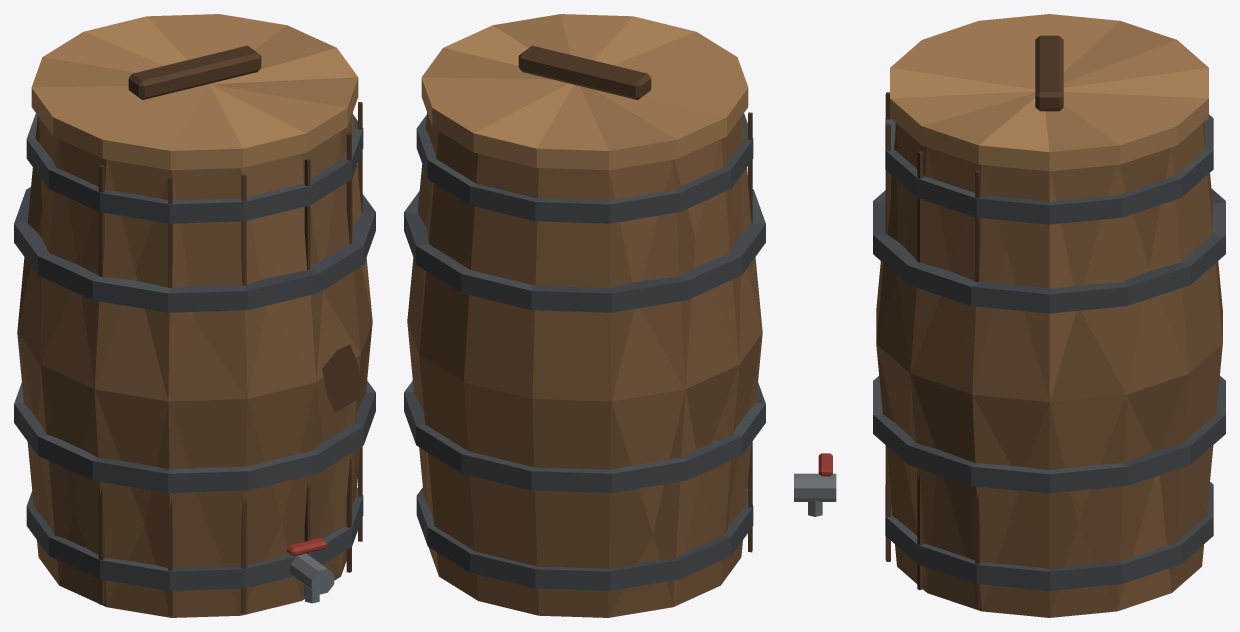
Rendered from barrel_water_derevyannaya_100_l_idle.glb.
3 views of the same model, side by side, from view 1: azimuth 30°, elevation 25°; view 2: azimuth 150°, elevation 25°; view 3: azimuth 270°, elevation 25° (orthographic).
Visible parts, largest first — view 1: barrel_water_derevyannaya_100_l_idle; view 2: barrel_water_derevyannaya_100_l_idle; view 3: barrel_water_derevyannaya_100_l_idle.
Boxes of the visible parts, <box> form: barrel_water_derevyannaya_100_l_idle: <box>14,14,375,617</box>; barrel_water_derevyannaya_100_l_idle: <box>404,14,765,617</box>; barrel_water_derevyannaya_100_l_idle: <box>794,14,1225,617</box>.
Size of the model in its own units: 0.5121 by 0.762 by 0.6112.
Materials: 1 (1 with a texture image).
